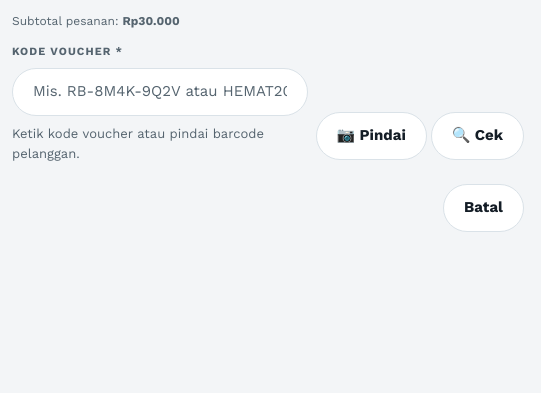
Scenario: VoucherKasir (T8-09) › menampilkan sebab spesifik saat cek voucher gagal
Type "VC-HEMAT20" into the field labelled "Kode voucher *" at (160, 92), box [12,68,308,116]
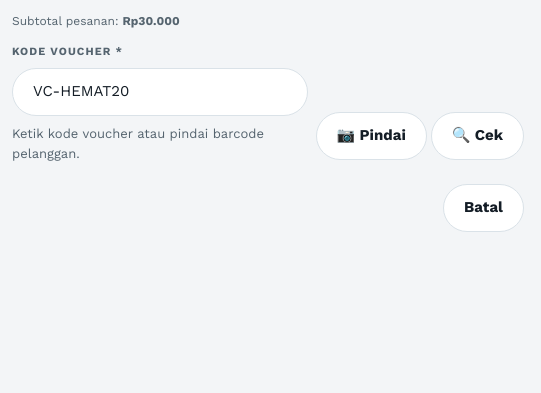
Click the button with aria-label "Cek voucher" at (477, 136), box [431,112,524,160]
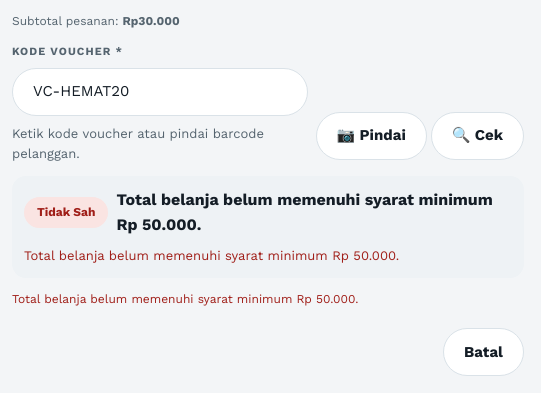
Check: the element with test id "voucher-hasil-cek-gagal" is shown, box [12,176,524,278]
Check: the text "Tidak Sah" is shown, box [24,197,108,228]
Check: the text with test id "voucher-pesan-gagal" shows "Total belanja belum memenuhi syarat minimum", box [24,248,399,262]
